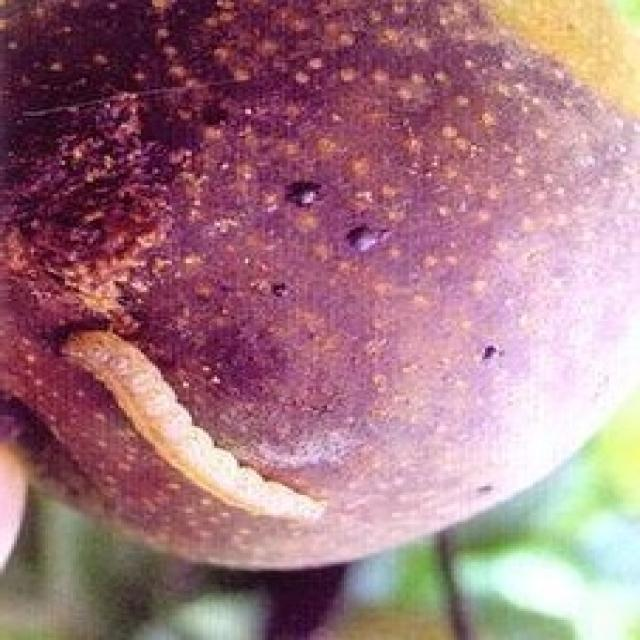peach borer: (55, 320, 325, 529)
